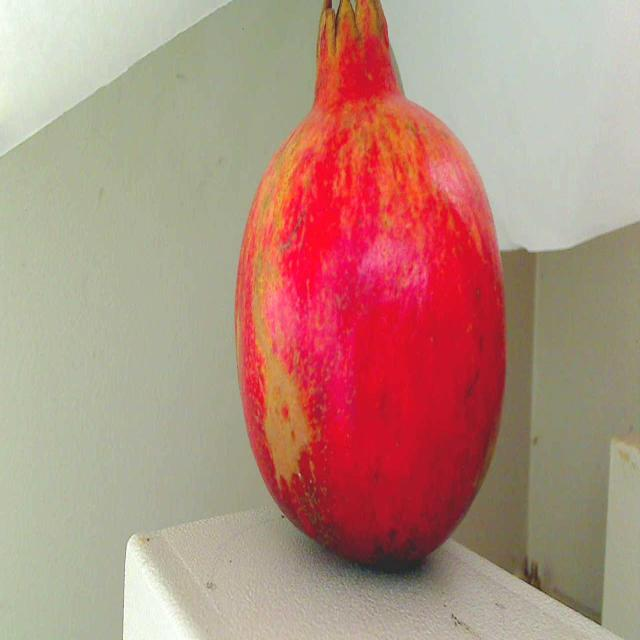pomegranate: (223, 0, 530, 587)
